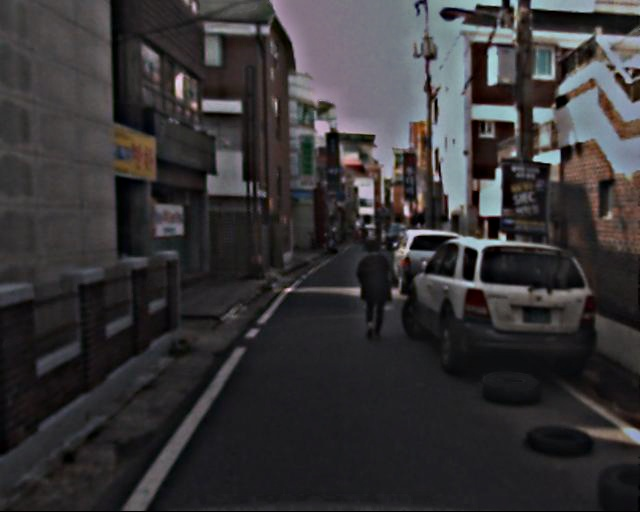person: (353, 238, 395, 340)
